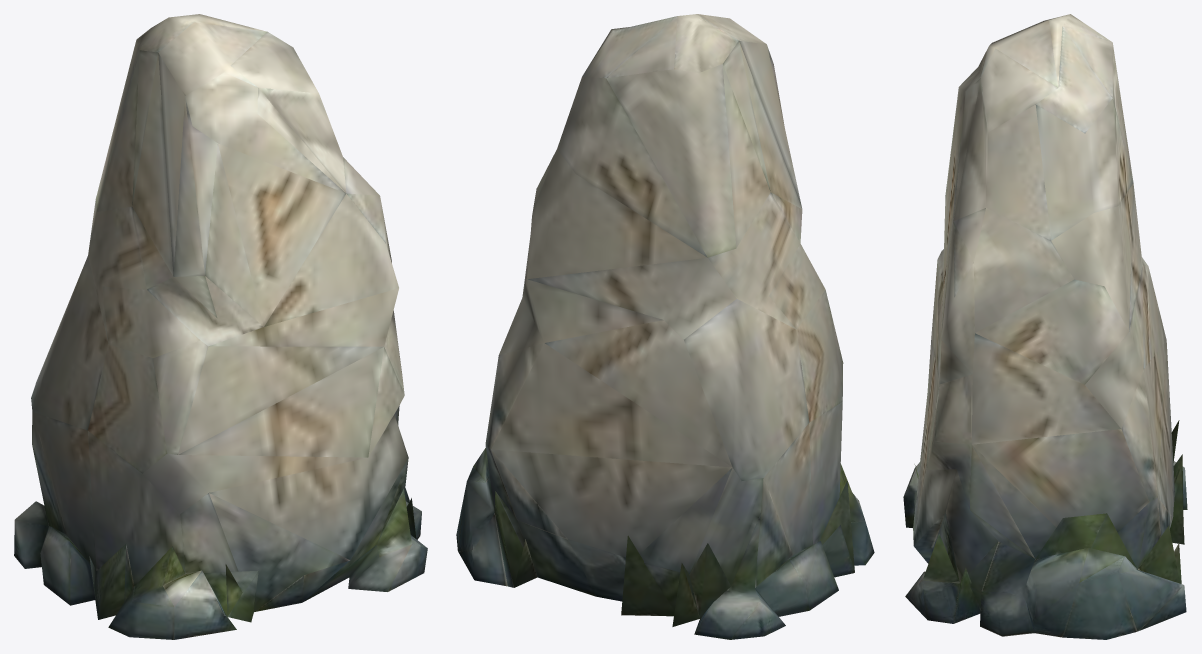
Rendered from m-pierre-semis.glb.
3 views of the same model, side by side, from view 1: azimuth 30°, elevation 25°; view 2: azimuth 150°, elevation 25°; view 3: azimuth 270°, elevation 25° (orthographic). The views are drawn at different scales.
Parts seen in each view (by area): view 1: m-pierre-semis; view 2: m-pierre-semis; view 3: m-pierre-semis.
Part boxes in pixels (left/top/right/bottom): m-pierre-semis: left=14, top=14, right=427, bottom=639; m-pierre-semis: left=456, top=14, right=874, bottom=639; m-pierre-semis: left=903, top=14, right=1187, bottom=639.
Size of the model in its own units: 1.31 by 2 by 0.9867.
1 material, 1 textured.
